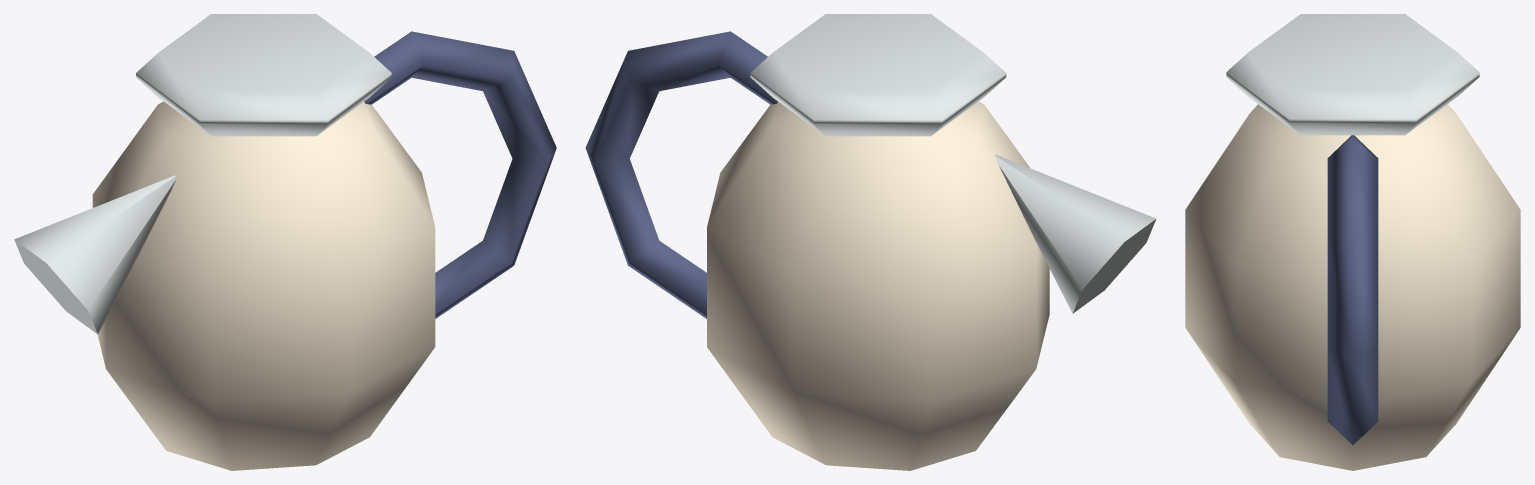
Rendered from kettle.glb.
The picture shows the model from 3 angles, left to right: view 1: azimuth 30°, elevation 25°; view 2: azimuth 150°, elevation 25°; view 3: azimuth 270°, elevation 25°; orthographic projection.
Parts seen in each view (by area): view 1: detail (×2), part (×2); view 2: detail (×2), part (×2); view 3: detail (×2), part.
Part boxes in pixels (x1,y1,x2,y2): detail (×2): (92, 31, 556, 470); part (×2): (14, 14, 391, 334); detail (×2): (585, 31, 1049, 470); part (×2): (750, 14, 1156, 313); detail (×2): (1185, 104, 1520, 470); part: (1226, 14, 1479, 135).
Size of the model in its own units: 0.4395 by 0.3195 by 0.2378.
1 material, 1 textured.
